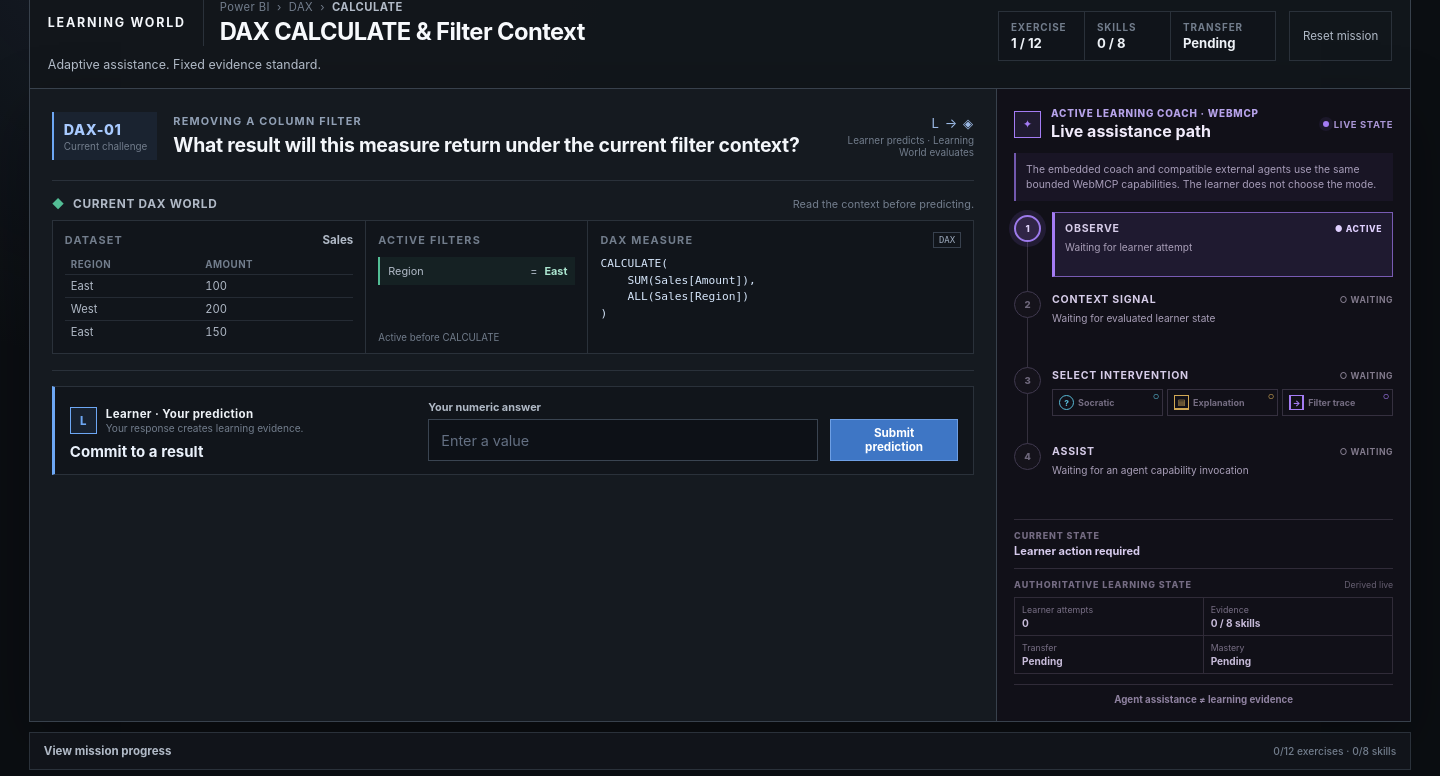
Test case: DAX learner attempt flow › places compact mapped attempt provenance inside Learning World evaluation
Type "250" into the number field labelled "Your numeric answer". click: (623, 440)
box: 428,419 -> 818,461
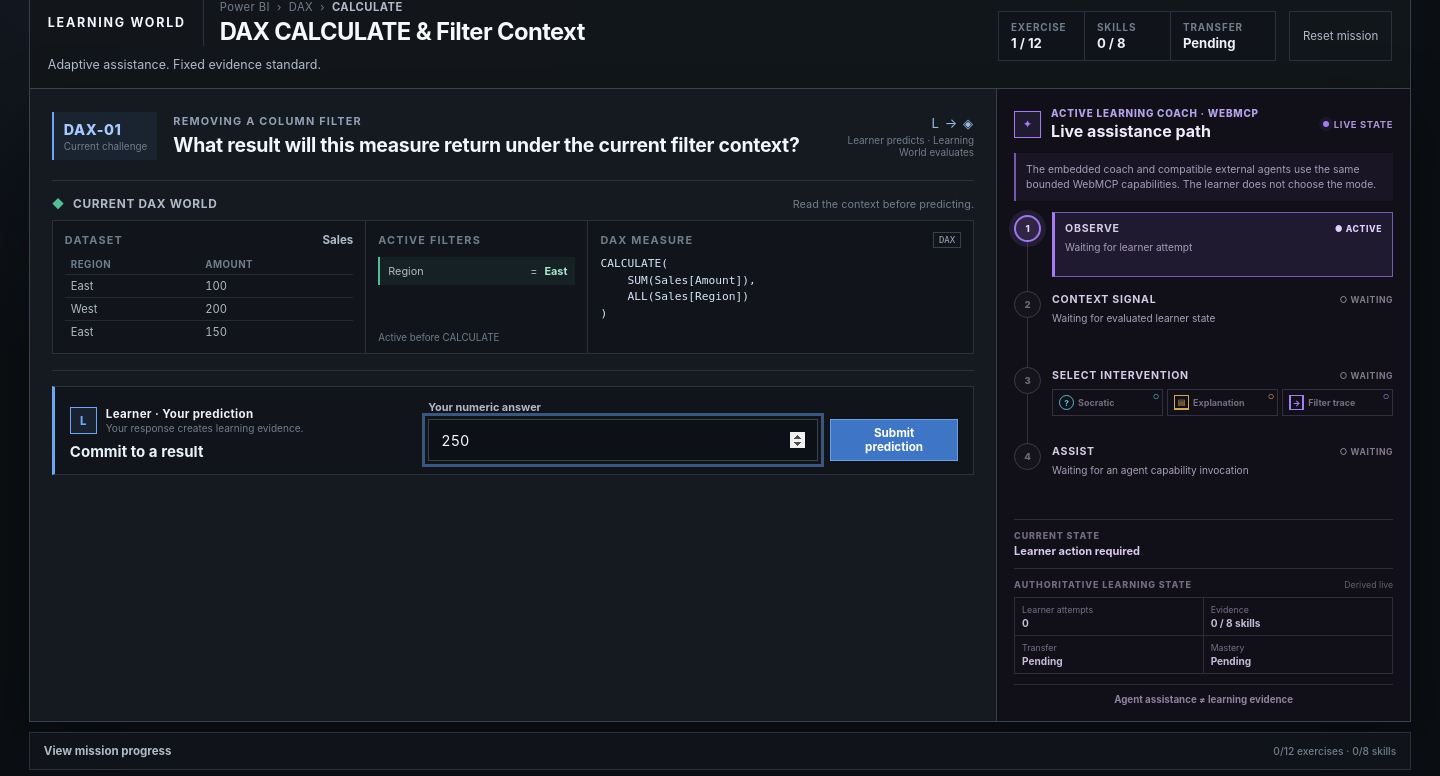
Click the button "Submit prediction". click: click(894, 440)
box: 830,419 -> 958,461
(page scrolled)
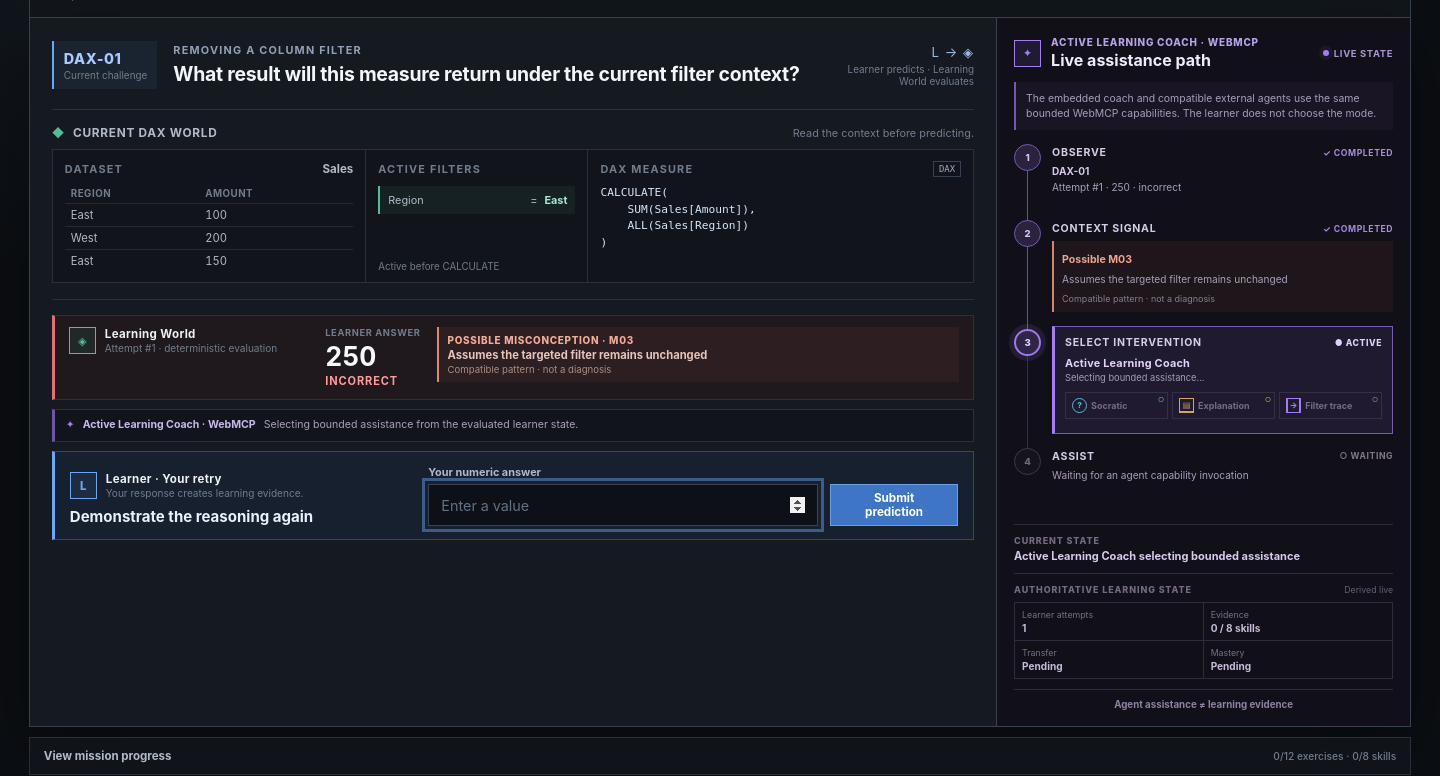
Expected: the element "Possible misconception" shows "M03", 609,334 -> 634,346
Expected: the element "Possible misconception" shows "Assumes the targeted filter remains unchanged", 448,348 -> 707,362
Expected: the element "Possible misconception" shows "Compatible pattern · not a diagnosis", 448,364 -> 611,375
